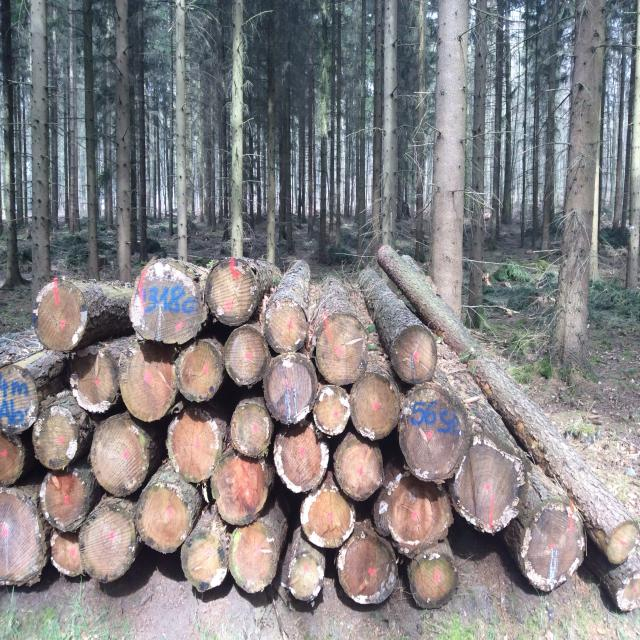wood-log: (398, 384, 472, 482), (132, 261, 208, 347), (452, 448, 526, 534), (518, 501, 586, 594), (370, 473, 449, 551), (76, 500, 138, 580), (89, 417, 148, 498), (0, 487, 47, 587), (120, 341, 180, 419), (210, 456, 272, 528), (338, 534, 398, 604), (35, 280, 90, 355), (316, 315, 372, 387), (272, 425, 330, 493), (170, 408, 223, 481), (264, 355, 319, 424), (203, 257, 258, 324), (137, 487, 190, 555), (227, 521, 276, 592), (298, 485, 354, 547), (40, 471, 96, 531), (347, 375, 398, 440), (68, 345, 118, 411), (333, 438, 384, 502), (175, 339, 222, 401), (30, 408, 76, 471), (224, 326, 270, 386), (391, 326, 438, 384), (182, 532, 228, 591), (229, 400, 274, 458), (408, 550, 454, 606), (0, 363, 37, 430), (264, 300, 309, 353), (286, 550, 327, 600), (311, 386, 351, 437), (47, 532, 85, 578), (603, 518, 640, 564), (0, 431, 23, 486), (615, 576, 640, 616), (630, 227, 640, 267)
